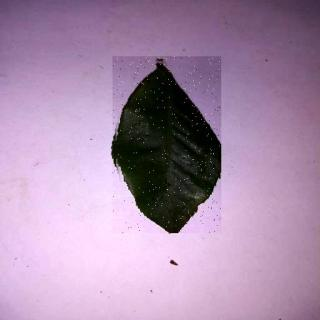Bird Eye Spot: (114, 58, 223, 235)
